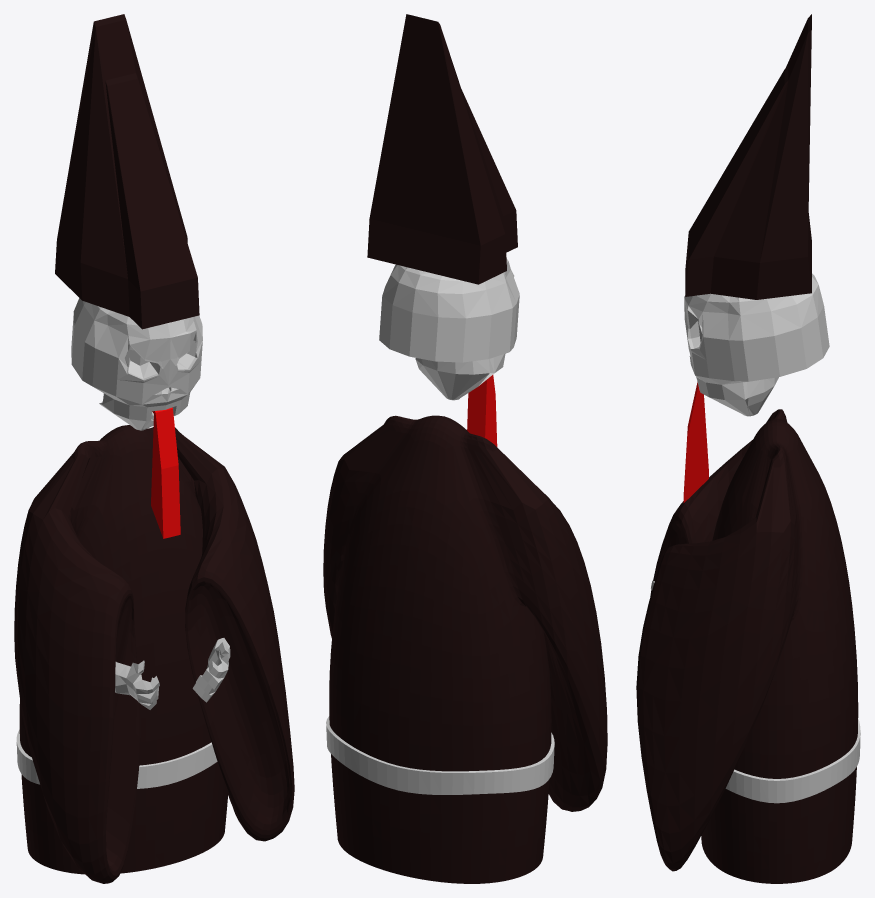
File: heibaiwuchang.fbx
3 views of the same model, side by side, from view 1: azimuth 30°, elevation 25°; view 2: azimuth 150°, elevation 25°; view 3: azimuth 270°, elevation 25° (orthographic). The views are drawn at different scales.
Visible parts, largest first — view 1: 细分曲面, 立方体_3, heiwuchang_head, heiwuchang_, 细分曲面_2, 立方体_2, 立方体; view 2: 细分曲面, 立方体_3, heiwuchang_head, 细分曲面_2, heiwuchang_; view 3: 细分曲面, 立方体_3, heiwuchang_head, 细分曲面_2, heiwuchang_.
Part boxes in pixels (x1,y1,x2,y2): 细分曲面: (14, 425, 294, 883); 立方体_3: (55, 14, 199, 329); heiwuchang_head: (71, 298, 202, 430); heiwuchang_: (151, 407, 180, 538); 细分曲面_2: (16, 729, 217, 788); 立方体_2: (115, 660, 159, 709); 立方体: (192, 638, 230, 702); 细分曲面: (323, 415, 607, 883); 立方体_3: (367, 14, 517, 284); heiwuchang_head: (379, 259, 519, 400); 细分曲面_2: (326, 716, 554, 794); heiwuchang_: (467, 375, 497, 446); 细分曲面: (636, 409, 858, 883); 立方体_3: (685, 14, 811, 299); heiwuchang_head: (684, 273, 829, 416); 细分曲面_2: (725, 718, 860, 803); heiwuchang_: (683, 382, 708, 502).
Bounding box in the file's own units: 167 × 531 × 132.
